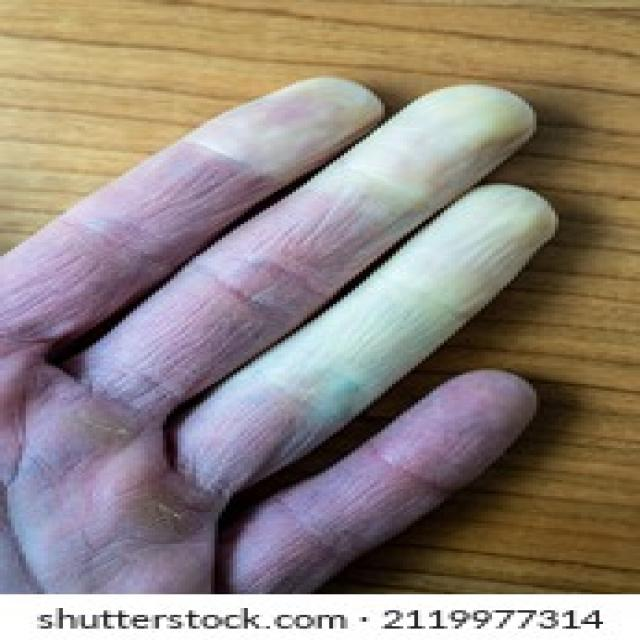raynauds: (148, 57, 602, 438)
